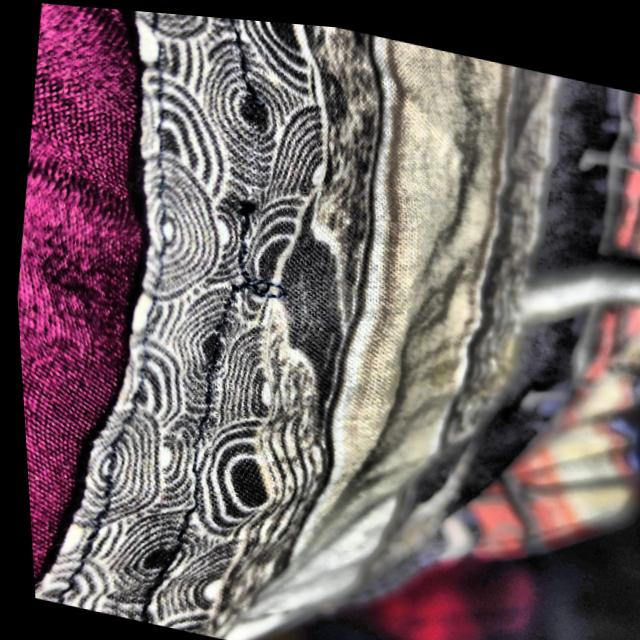Stitch: (198, 178, 304, 336), (202, 60, 293, 225)
